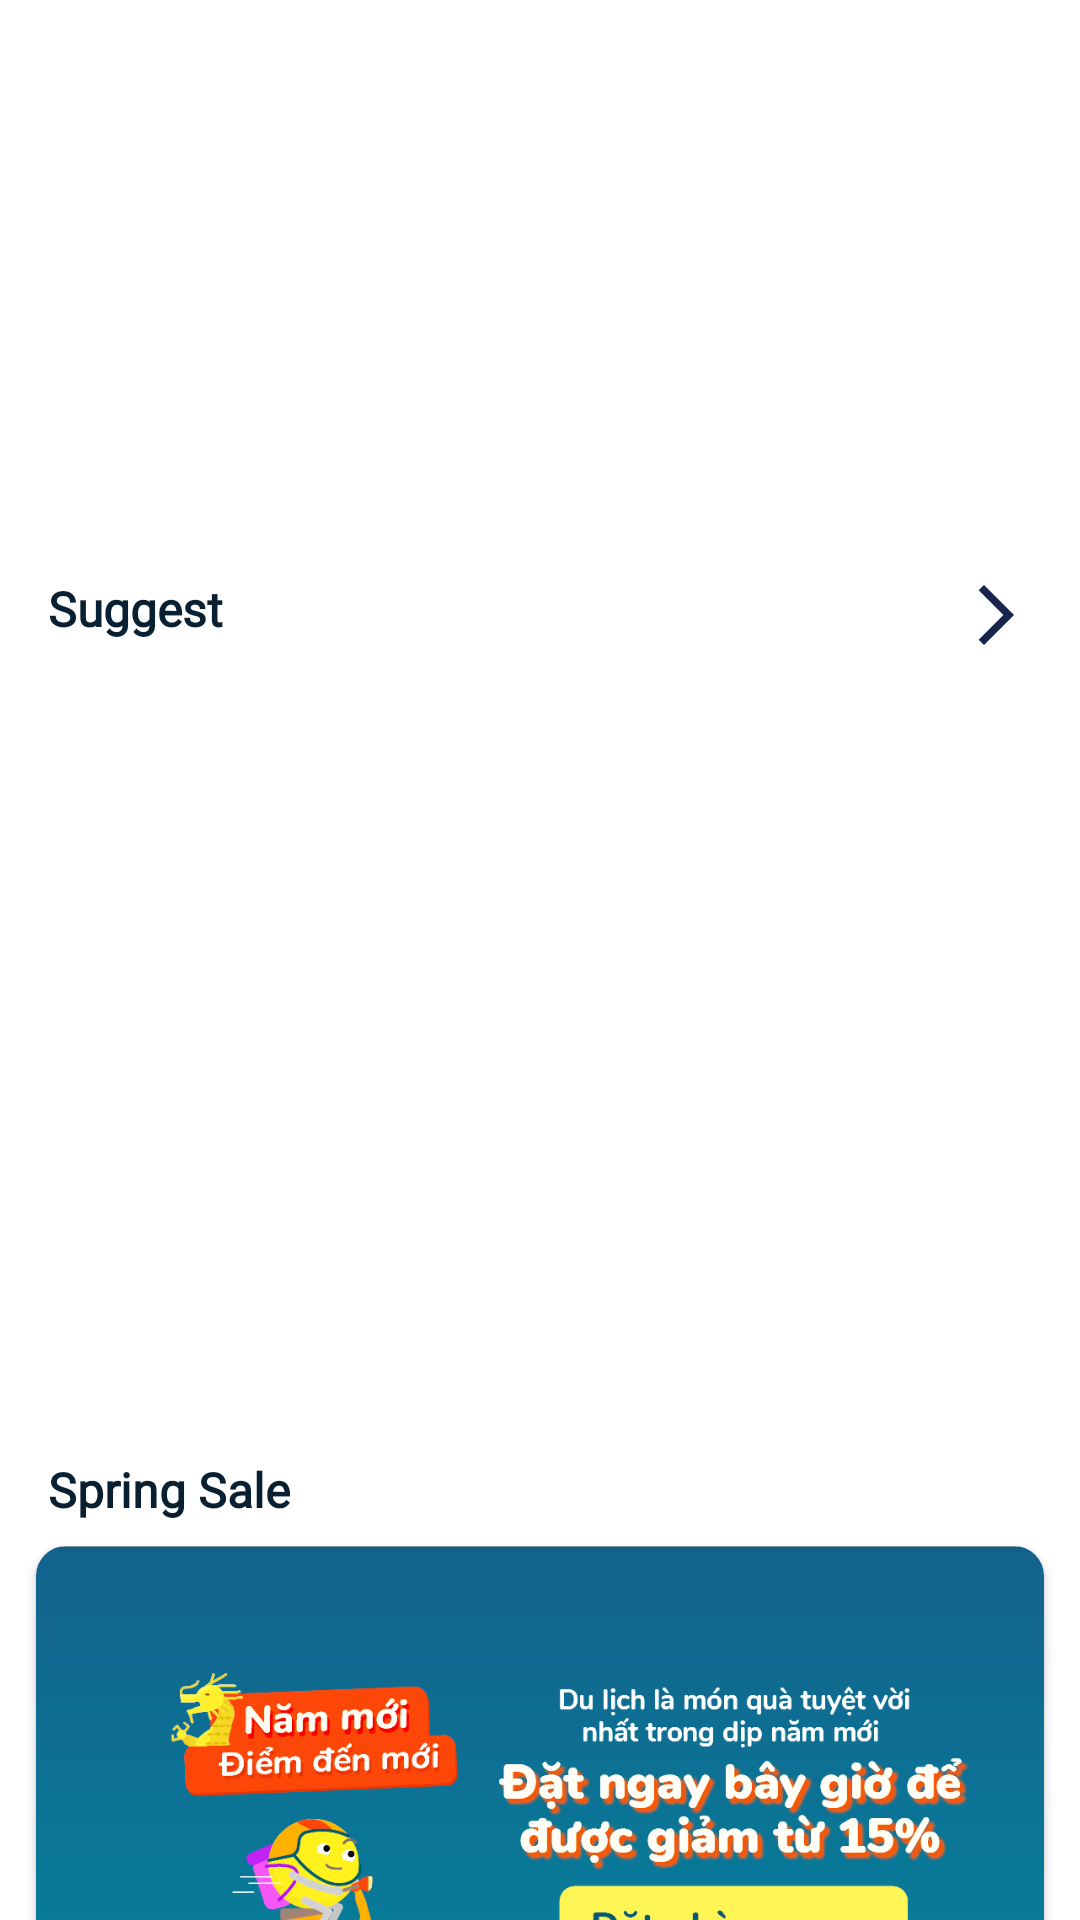

Where icons sit on this 1080px x 1920px app screen, as (x1, y1, x2, y2):
arrow: (979, 585, 1014, 645)
